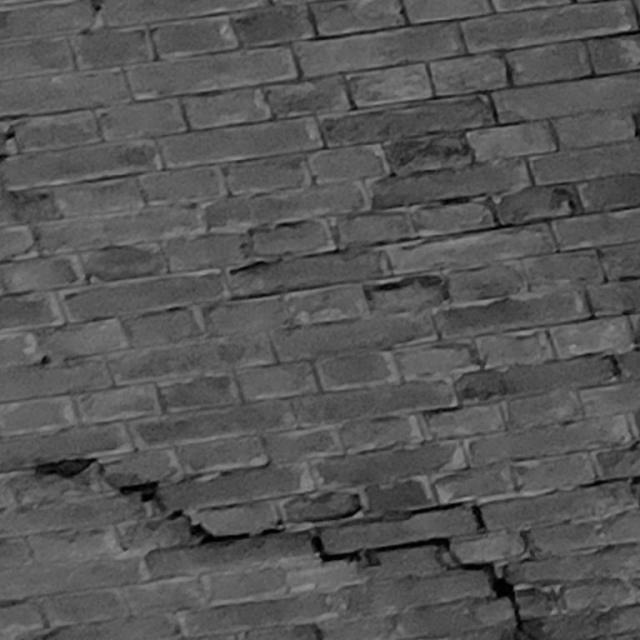crack: (34, 456, 533, 640)
